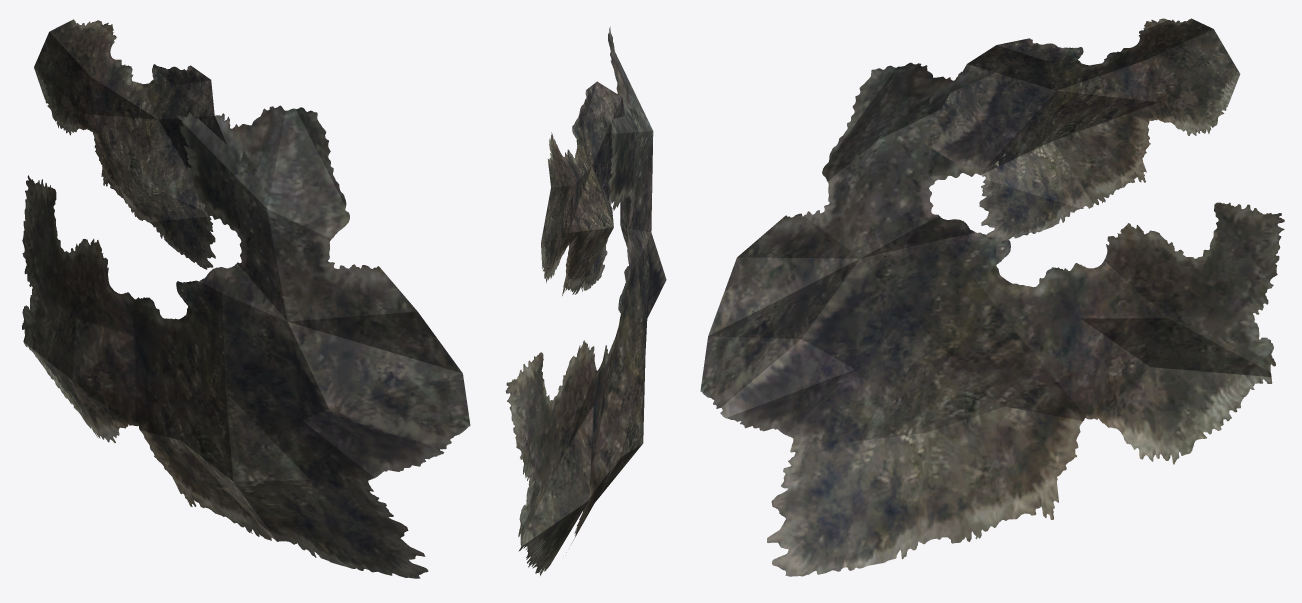
Rendered from yatelandisi_dongxue_06_haizhiwu08.obj.
The picture shows the model from 3 angles, left to right: view 1: azimuth 30°, elevation 25°; view 2: azimuth 150°, elevation 25°; view 3: azimuth 270°, elevation 25°; orthographic projection. The views are drawn at different scales.
Parts seen in each view (by area): view 1: yatelandisi_dongxue_06_haizhiwu08; view 2: yatelandisi_dongxue_06_haizhiwu08; view 3: yatelandisi_dongxue_06_haizhiwu08.
Part boxes in pixels (<box>): yatelandisi_dongxue_06_haizhiwu08: <box>22,19,470,578</box>; yatelandisi_dongxue_06_haizhiwu08: <box>505,26,666,575</box>; yatelandisi_dongxue_06_haizhiwu08: <box>700,18,1284,576</box>.
Bounding box in the file's own units: 107 × 264 × 278.
Materials: 1 (1 with a texture image).
